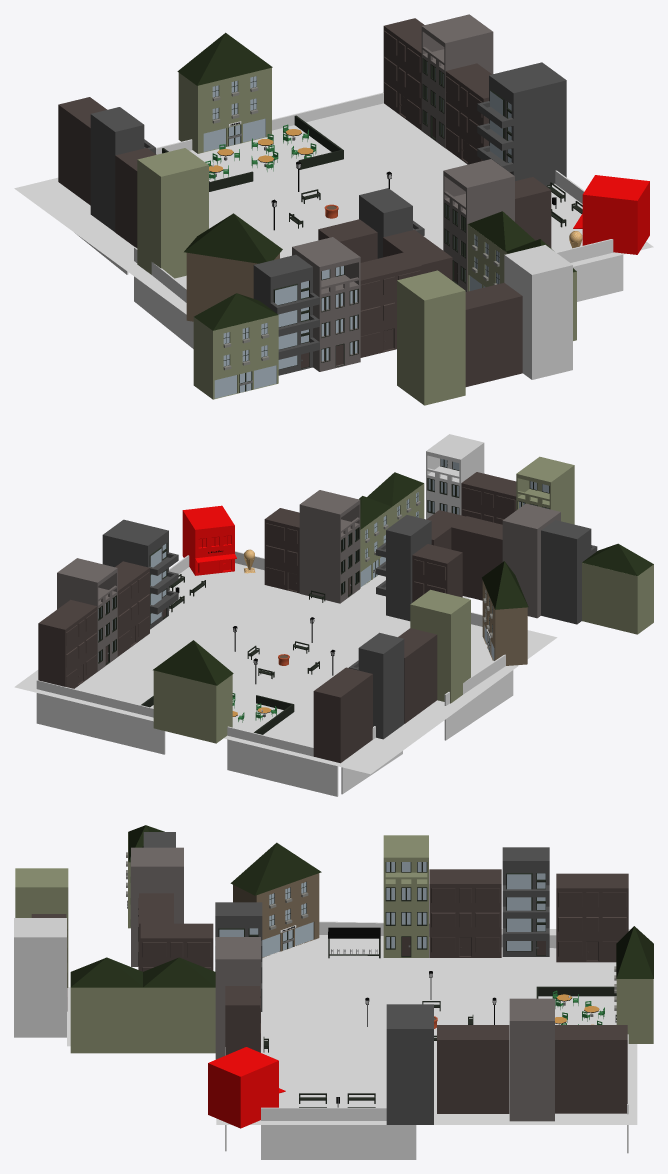
File: plein_met_huizen_AF.fbx
The picture shows the model from 3 angles, top to bottom: view 1: azimuth 30°, elevation 25°; view 2: azimuth 150°, elevation 25°; view 3: azimuth 270°, elevation 25°; orthographic projection. The views are drawn at different scales.
Visible parts, largest first — view 1: grond, café_1, Gebouw_3__Balk_Appartement_2, Gebouw_5__Dak_Appartement_4, Gebouw_5__Dak_Appartement_5, Gebouw_1__Café_3, Gebouw_5__Dak_Appartement_1, Gebouw_5__Dak_Appartement_6, Fietsenwinkel_1, Gebouw_2__Br_Appartement_4, Gebouw_3__Balk_Appartement_4, Gebouw_5__Dak_Appartement_2 (+17 smaller); view 2: grond, café_1, Gebouw_5__Dak_Appartement_3, Gebouw_1__Café_3, Cube_2, Gebouw_2__Br_Appartement_7, Gebouw_2__Br_Appartement_6, Cube_3, Gebouw_5__Dak_Appartement_5, Gebouw_3__Balk_Appartement_4, Gebouw_3__Balk_Appartement_2, Fietsenwinkel_1 (+19 smaller); view 3: grond, Cube, Gebouw_1__Café_2_2, Gebouw_1__Café_2, Gebouw_2__Br_Appartement, Gebouw_2__Br_Appartement_2, Gebouw_2__Br_Appartement_6, Fietsenwinkel_1, Gebouw_5__Dak_Appartement_1, Gebouw_2__Br_Appartement_7, Gebouw_3__Balk_Appartement_2, Gebouw_5__Dak_Appartement_2 (+16 smaller).
Boxes of the visible parts, x1,y1,x2,y2 form: grond: (14, 103, 653, 314); café_1: (177, 32, 272, 153); Gebouw_3__Balk_Appartement_2: (477, 62, 566, 185); Gebouw_5__Dak_Appartement_4: (397, 270, 465, 405); Gebouw_5__Dak_Appartement_5: (137, 148, 208, 278); Gebouw_1__Café_3: (193, 293, 278, 399); Gebouw_5__Dak_Appartement_1: (504, 245, 572, 379); Gebouw_5__Dak_Appartement_6: (292, 237, 360, 371); Fietsenwinkel_1: (184, 213, 282, 321); Gebouw_2__Br_Appartement_4: (465, 282, 522, 386); Gebouw_3__Balk_Appartement_4: (253, 254, 319, 375); Gebouw_5__Dak_Appartement_2: (421, 14, 493, 148); grond: (14, 563, 557, 774); café_1: (153, 640, 233, 743); Gebouw_5__Dak_Appartement_3: (299, 490, 360, 603); Gebouw_1__Café_3: (582, 543, 653, 634); Cube_2: (36, 680, 165, 754); Gebouw_2__Br_Appartement_7: (313, 667, 372, 763); Gebouw_2__Br_Appartement_6: (38, 599, 97, 688); Cube_3: (227, 726, 338, 796); Gebouw_5__Dak_Appartement_5: (410, 589, 470, 703); Gebouw_3__Balk_Appartement_4: (541, 520, 597, 624); Gebouw_3__Balk_Appartement_2: (102, 519, 178, 629); Fietsenwinkel_1: (482, 561, 528, 665); grond: (67, 929, 637, 1124); Cube: (261, 1107, 416, 1159); Gebouw_1__Café_2_2: (143, 957, 215, 1053); Gebouw_1__Café_2: (70, 957, 142, 1053); Gebouw_2__Br_Appartement: (429, 869, 501, 957); Gebouw_2__Br_Appartement_2: (437, 1025, 509, 1113); Gebouw_2__Br_Appartement_6: (555, 1025, 627, 1113); Fietsenwinkel_1: (230, 842, 321, 957); Gebouw_5__Dak_Appartement_1: (14, 918, 66, 1037); Gebouw_2__Br_Appartement_7: (556, 873, 628, 962); Gebouw_3__Balk_Appartement_2: (386, 1004, 433, 1124); Gebouw_5__Dak_Appartement_2: (509, 998, 554, 1121).
Size of the model in its own units: 6040 by 1702 by 7060.
Materials: 22 (1 with a texture image).
